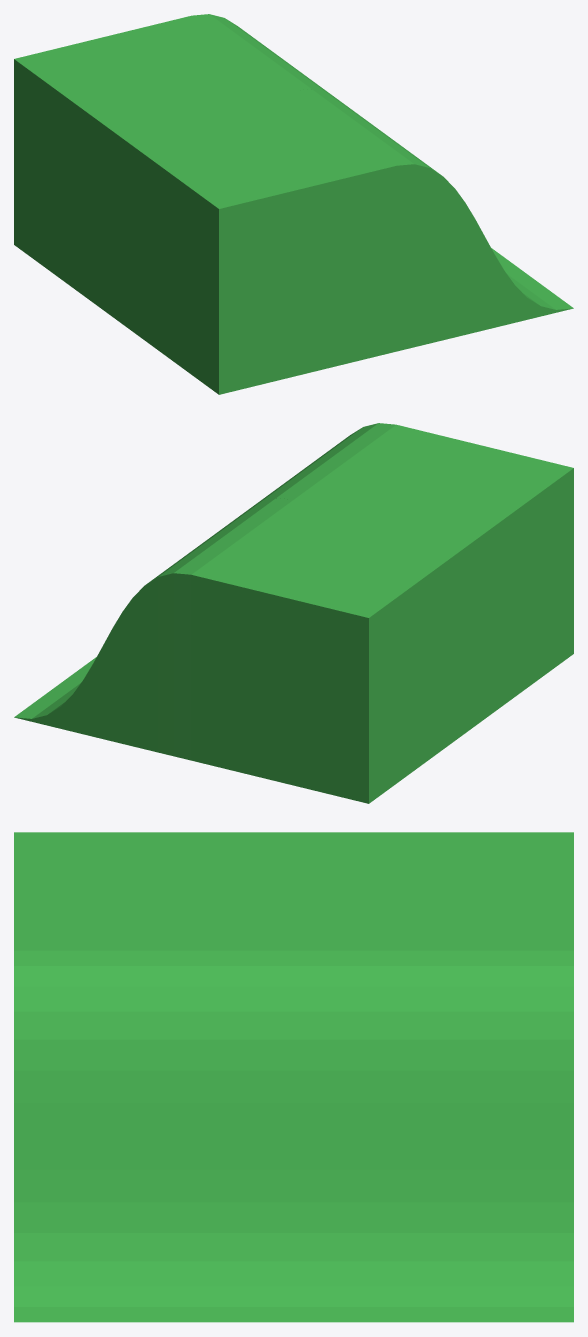
File: SidePiece.glb
3 views of the same model, one above another, from view 1: azimuth 30°, elevation 25°; view 2: azimuth 150°, elevation 25°; view 3: azimuth 270°, elevation 25° (orthographic). The views are drawn at different scales.
Parts seen in each view (by area): view 1: BezierCurve.016; view 2: BezierCurve.016; view 3: BezierCurve.016.
Boxes of the visible parts, bbox=[...] form: BezierCurve.016: bbox=[14, 14, 573, 394]; BezierCurve.016: bbox=[14, 423, 573, 803]; BezierCurve.016: bbox=[14, 832, 573, 1322].
Size of the model in its own units: 4 by 2 by 4.
